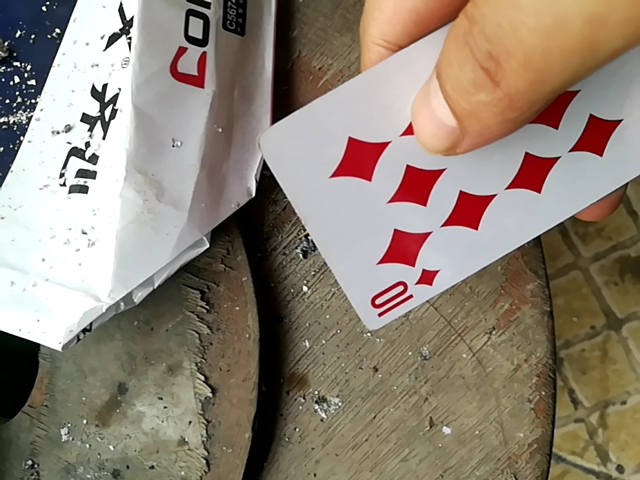fk 10: (240, 20, 636, 333)
